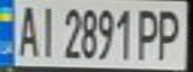1: (115, 4, 136, 61)
2: (57, 2, 81, 60)
8: (78, 3, 100, 60)
9: (97, 3, 118, 61)
A: (9, 1, 42, 58)
I: (33, 1, 60, 58)
P: (151, 4, 187, 61), (133, 4, 163, 61)
